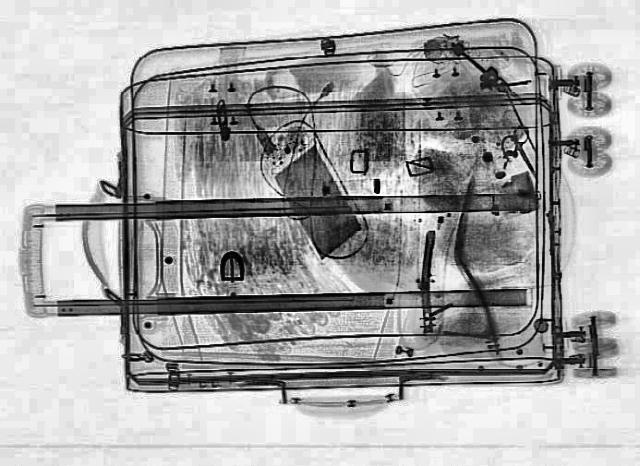Scissors: (491, 124, 549, 180)
